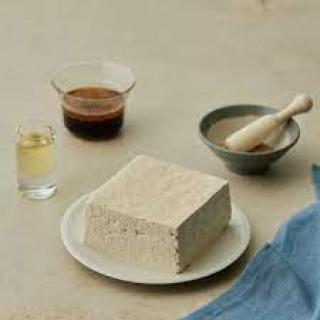Tahu: (85, 151, 235, 285)
